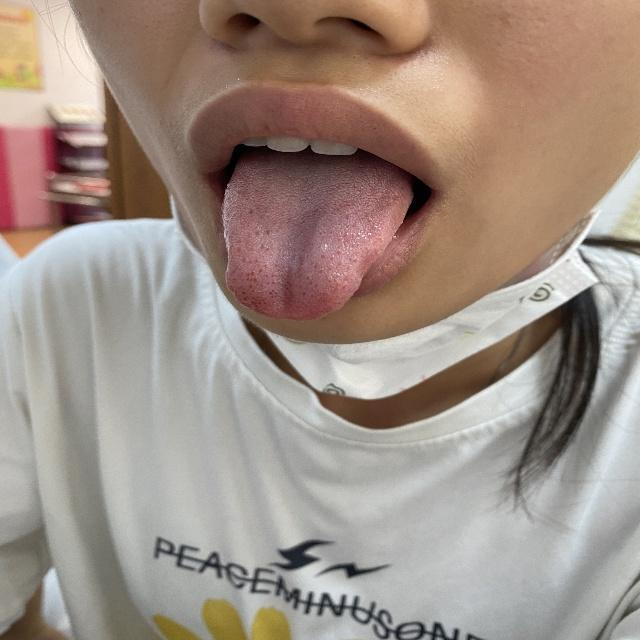baitaishe: (220, 157, 412, 320)
